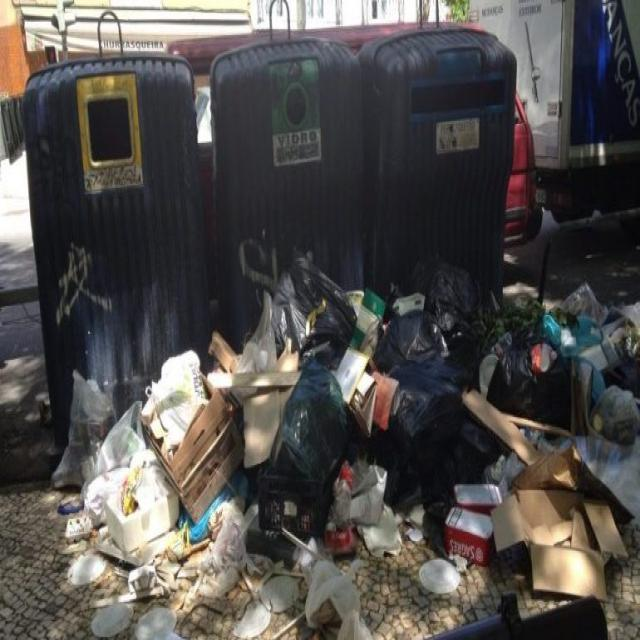garbage: (61, 258, 640, 640)
